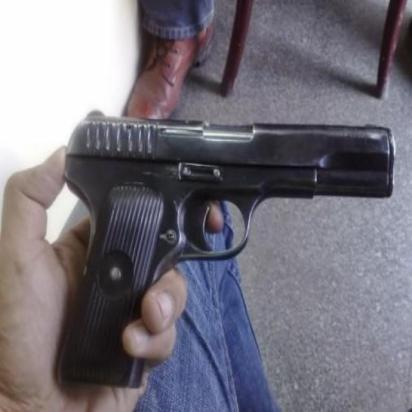Gun: (48, 104, 402, 394)
